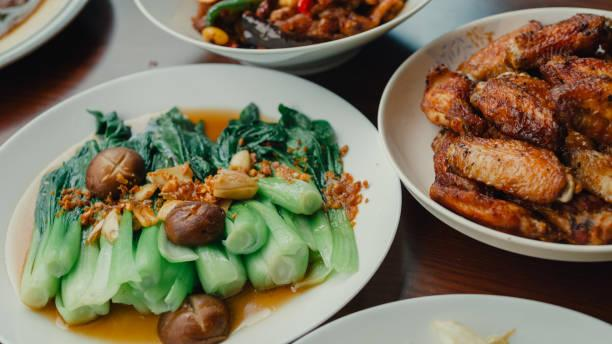Braised Crucian Carp: (0, 64, 398, 344), (378, 6, 611, 262)
